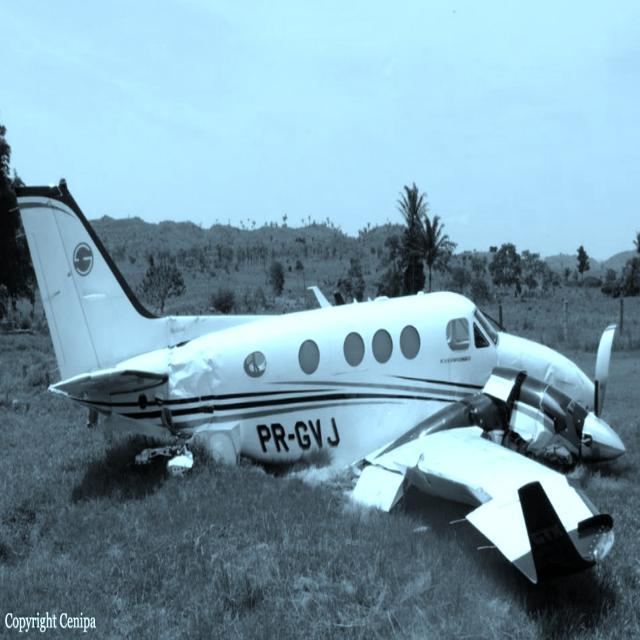dent: (168, 357, 223, 409)
